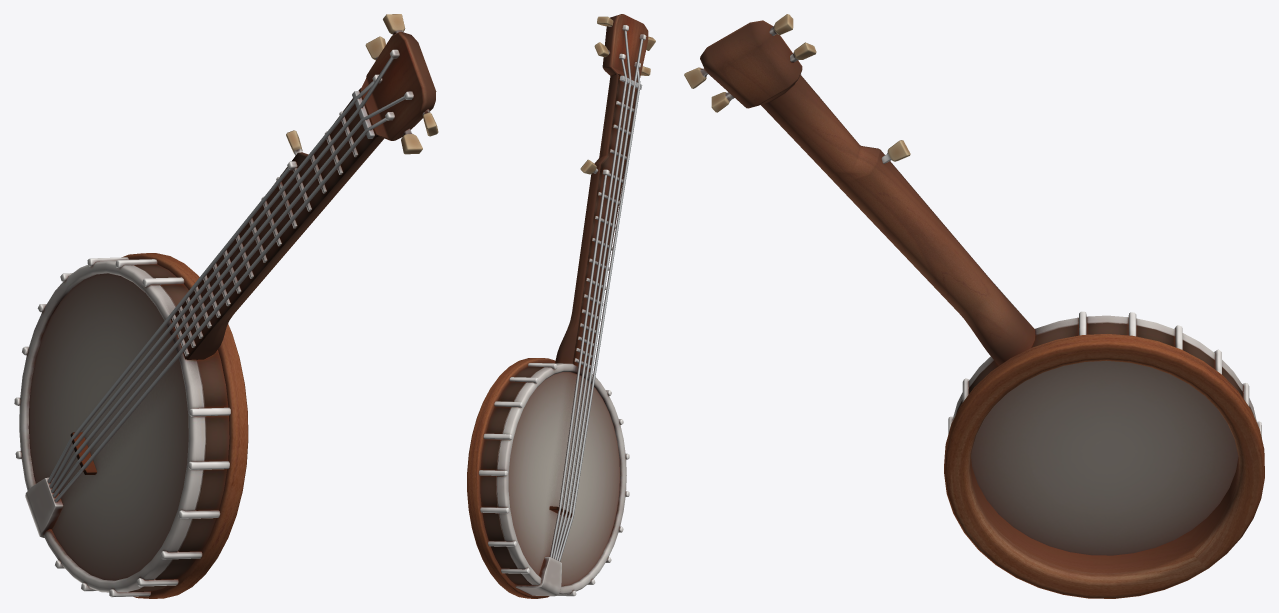
File: banjo.glb
3 renders of one model, left to right at view 1: azimuth 30°, elevation 25°; view 2: azimuth 150°, elevation 25°; view 3: azimuth 270°, elevation 25°, orthographic. The views are drawn at different scales.
Visible parts, largest first — view 1: Banjo; view 2: Banjo; view 3: Banjo.
Boxes of the visible parts, x1,y1,x2,y2 form: Banjo: [14, 14, 438, 598]; Banjo: [467, 14, 655, 598]; Banjo: [684, 14, 1264, 598].
Bounding box in the file's own units: 30.57 × 125 × 105.
1 material, 1 textured.
